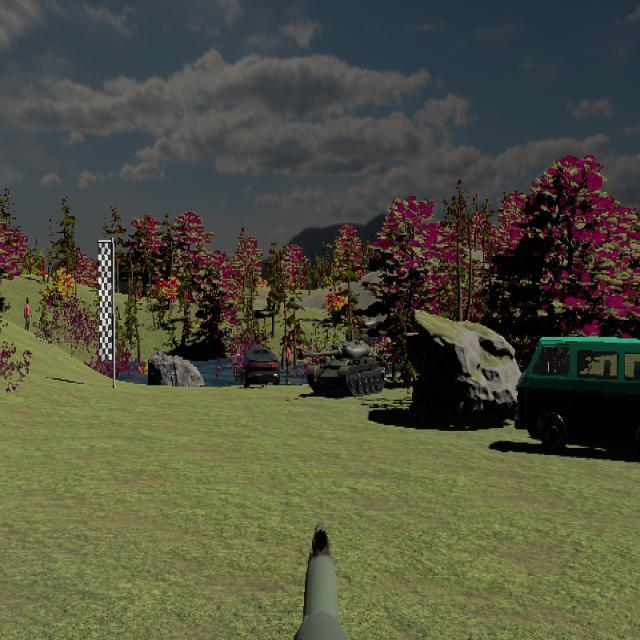Tank: (298, 338, 386, 398)
car: (515, 335, 640, 455), (242, 344, 280, 388), (242, 345, 280, 388)
